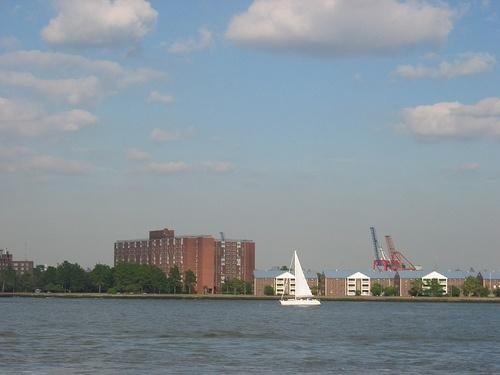boat: (277, 250, 326, 309)
